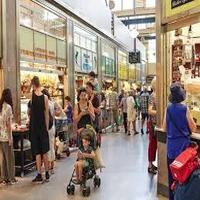person: (162, 77, 195, 137), (74, 124, 107, 160), (26, 73, 50, 115), (1, 66, 14, 121), (73, 88, 96, 116), (63, 96, 76, 120)
